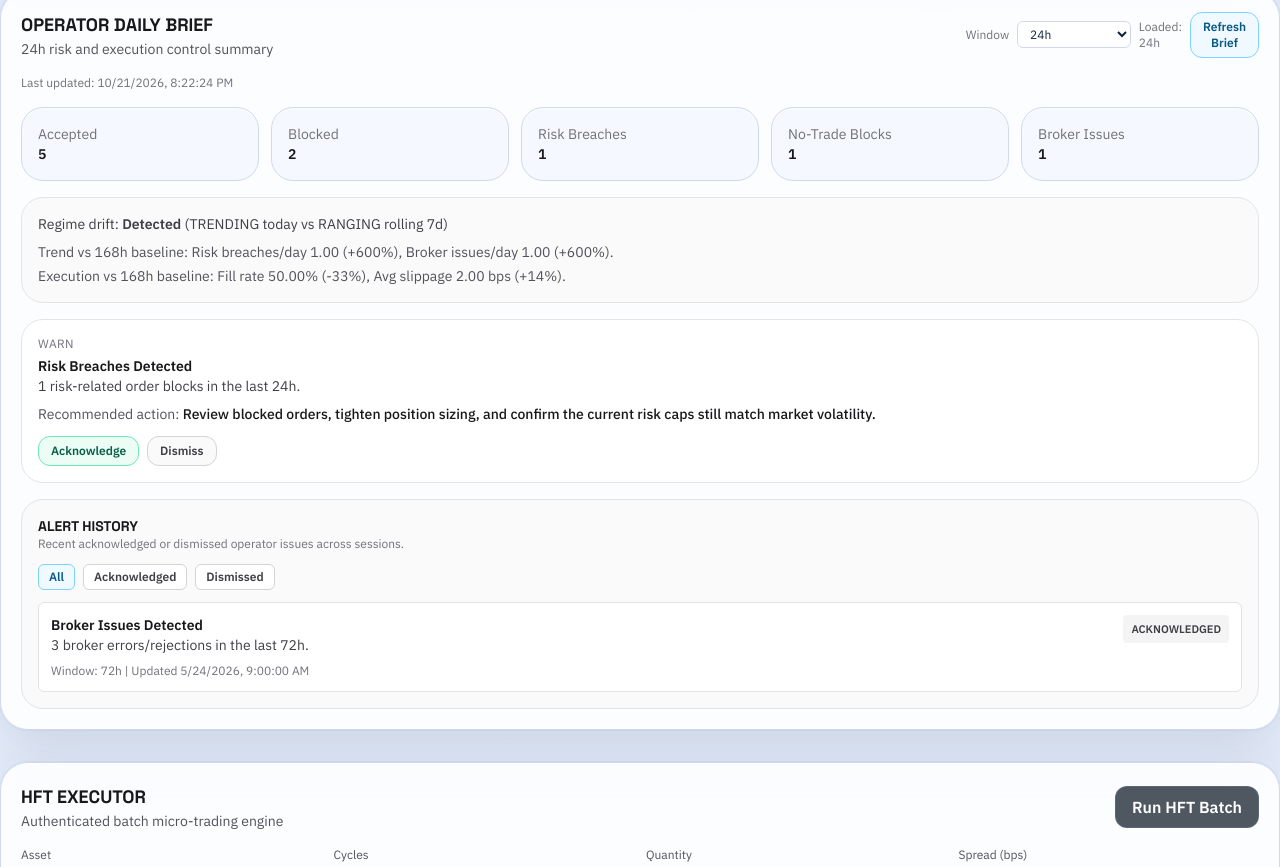
Test: TradingSignals › acknowledges and dismisses operator brief alerts with persistence
The width and height of the screenshot is (1280, 867).
(page scrolled)
Expected: the text "Risk Breaches Detected" is shown, [38,356,192,376]
Click the button "Acknowledge": click(89, 450) [38,436,139,466]
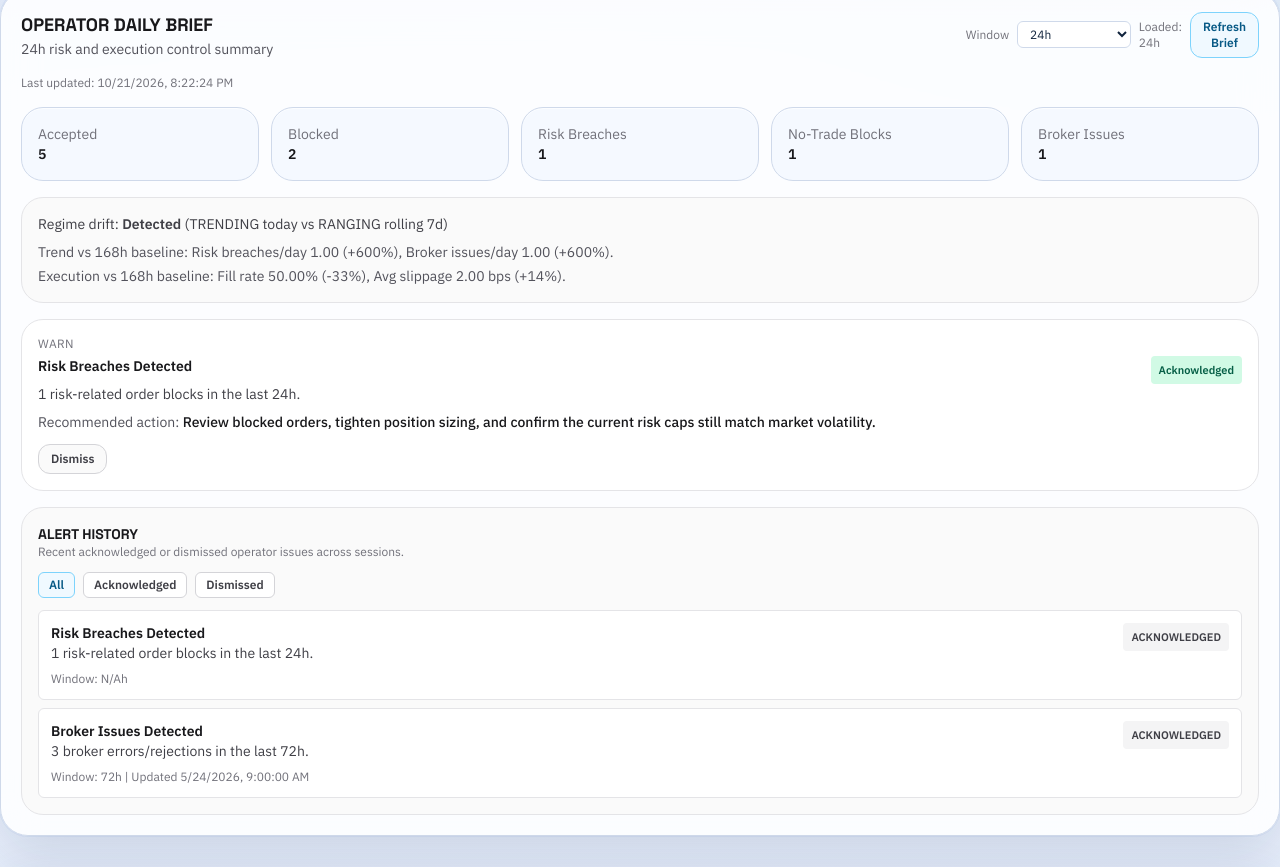
Result: the 1st text "Acknowledged" is shown at [1151,356,1242,384]
Click the button "Dismiss": click(73, 458) [38,444,107,474]
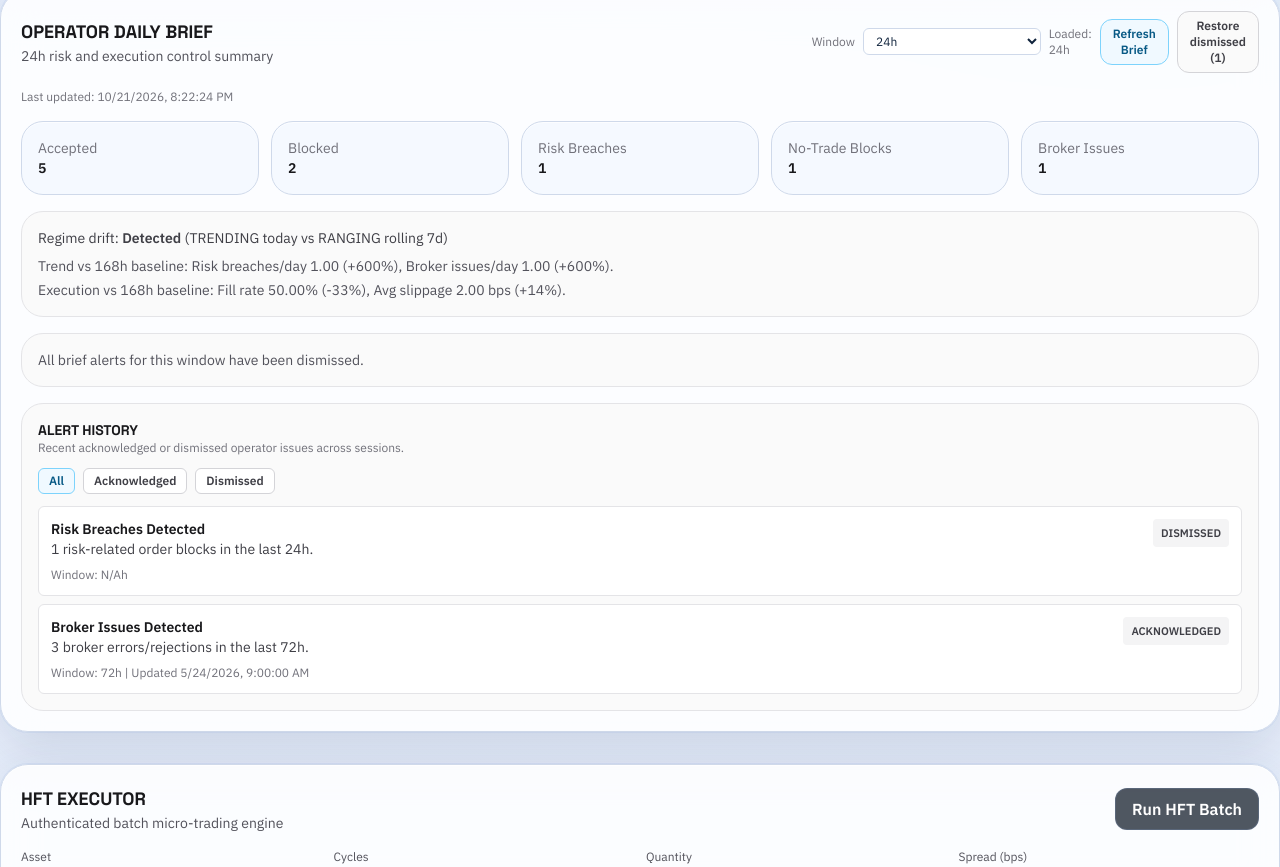
Result: the text "All brief alerts for this window have been dismissed." is shown at [21,332,1259,386]
Result: the button "Restore dismissed (1)" is shown
Click the button "Restore dismissed (1)": click(1218, 42) [1177,10,1259,72]
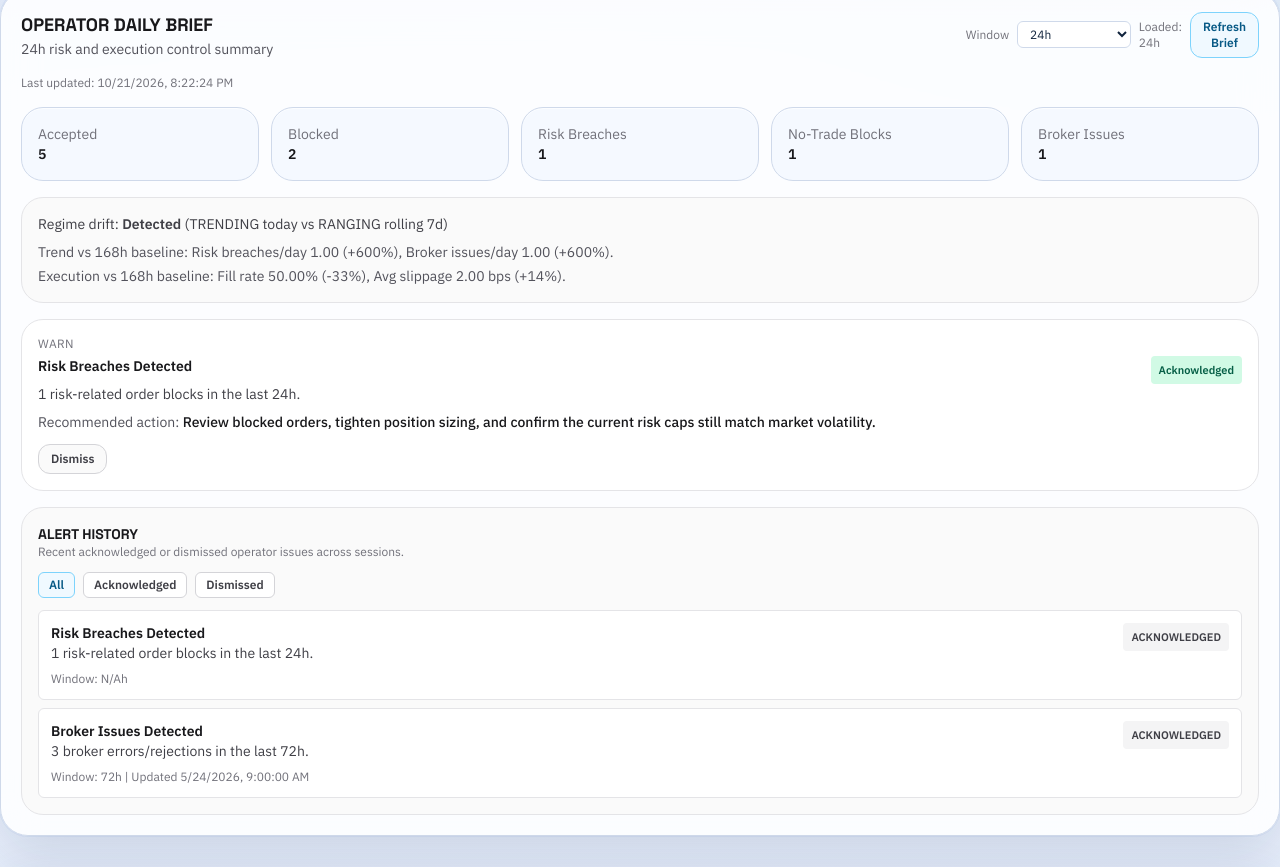
Result: the text "Risk Breaches Detected" below "WARN" is shown at [38,356,192,374]
